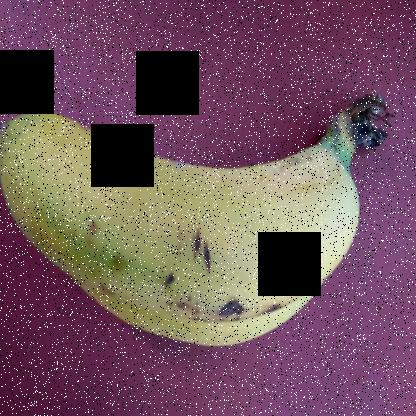ripe: (0, 102, 379, 324)
